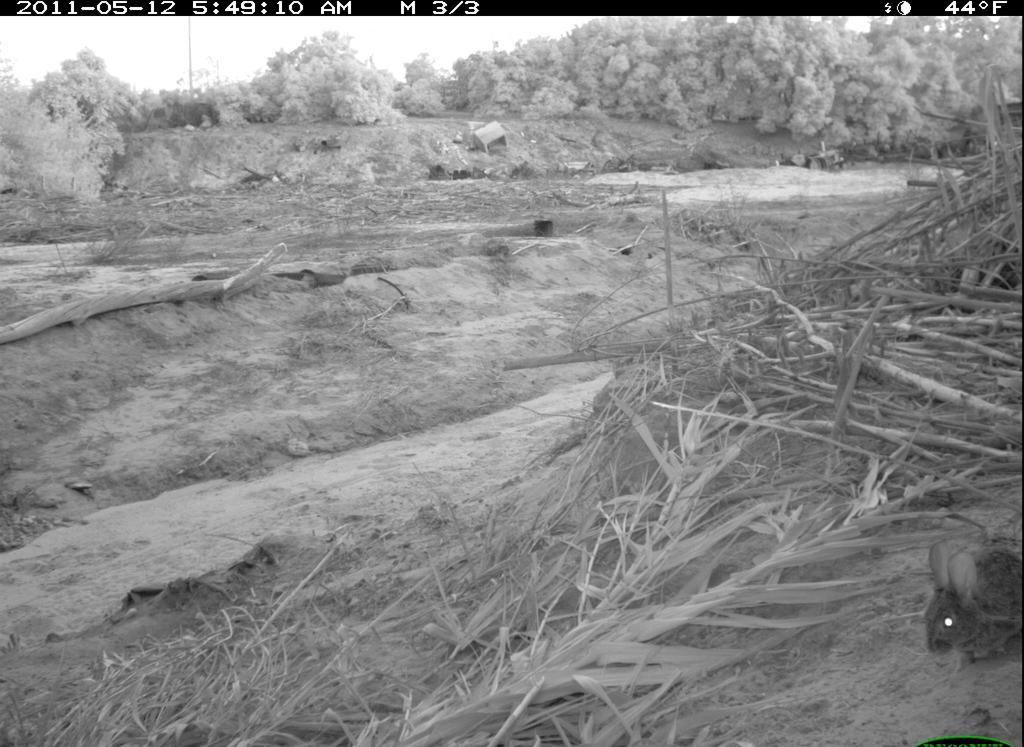rabbit: (913, 528, 1024, 674)
